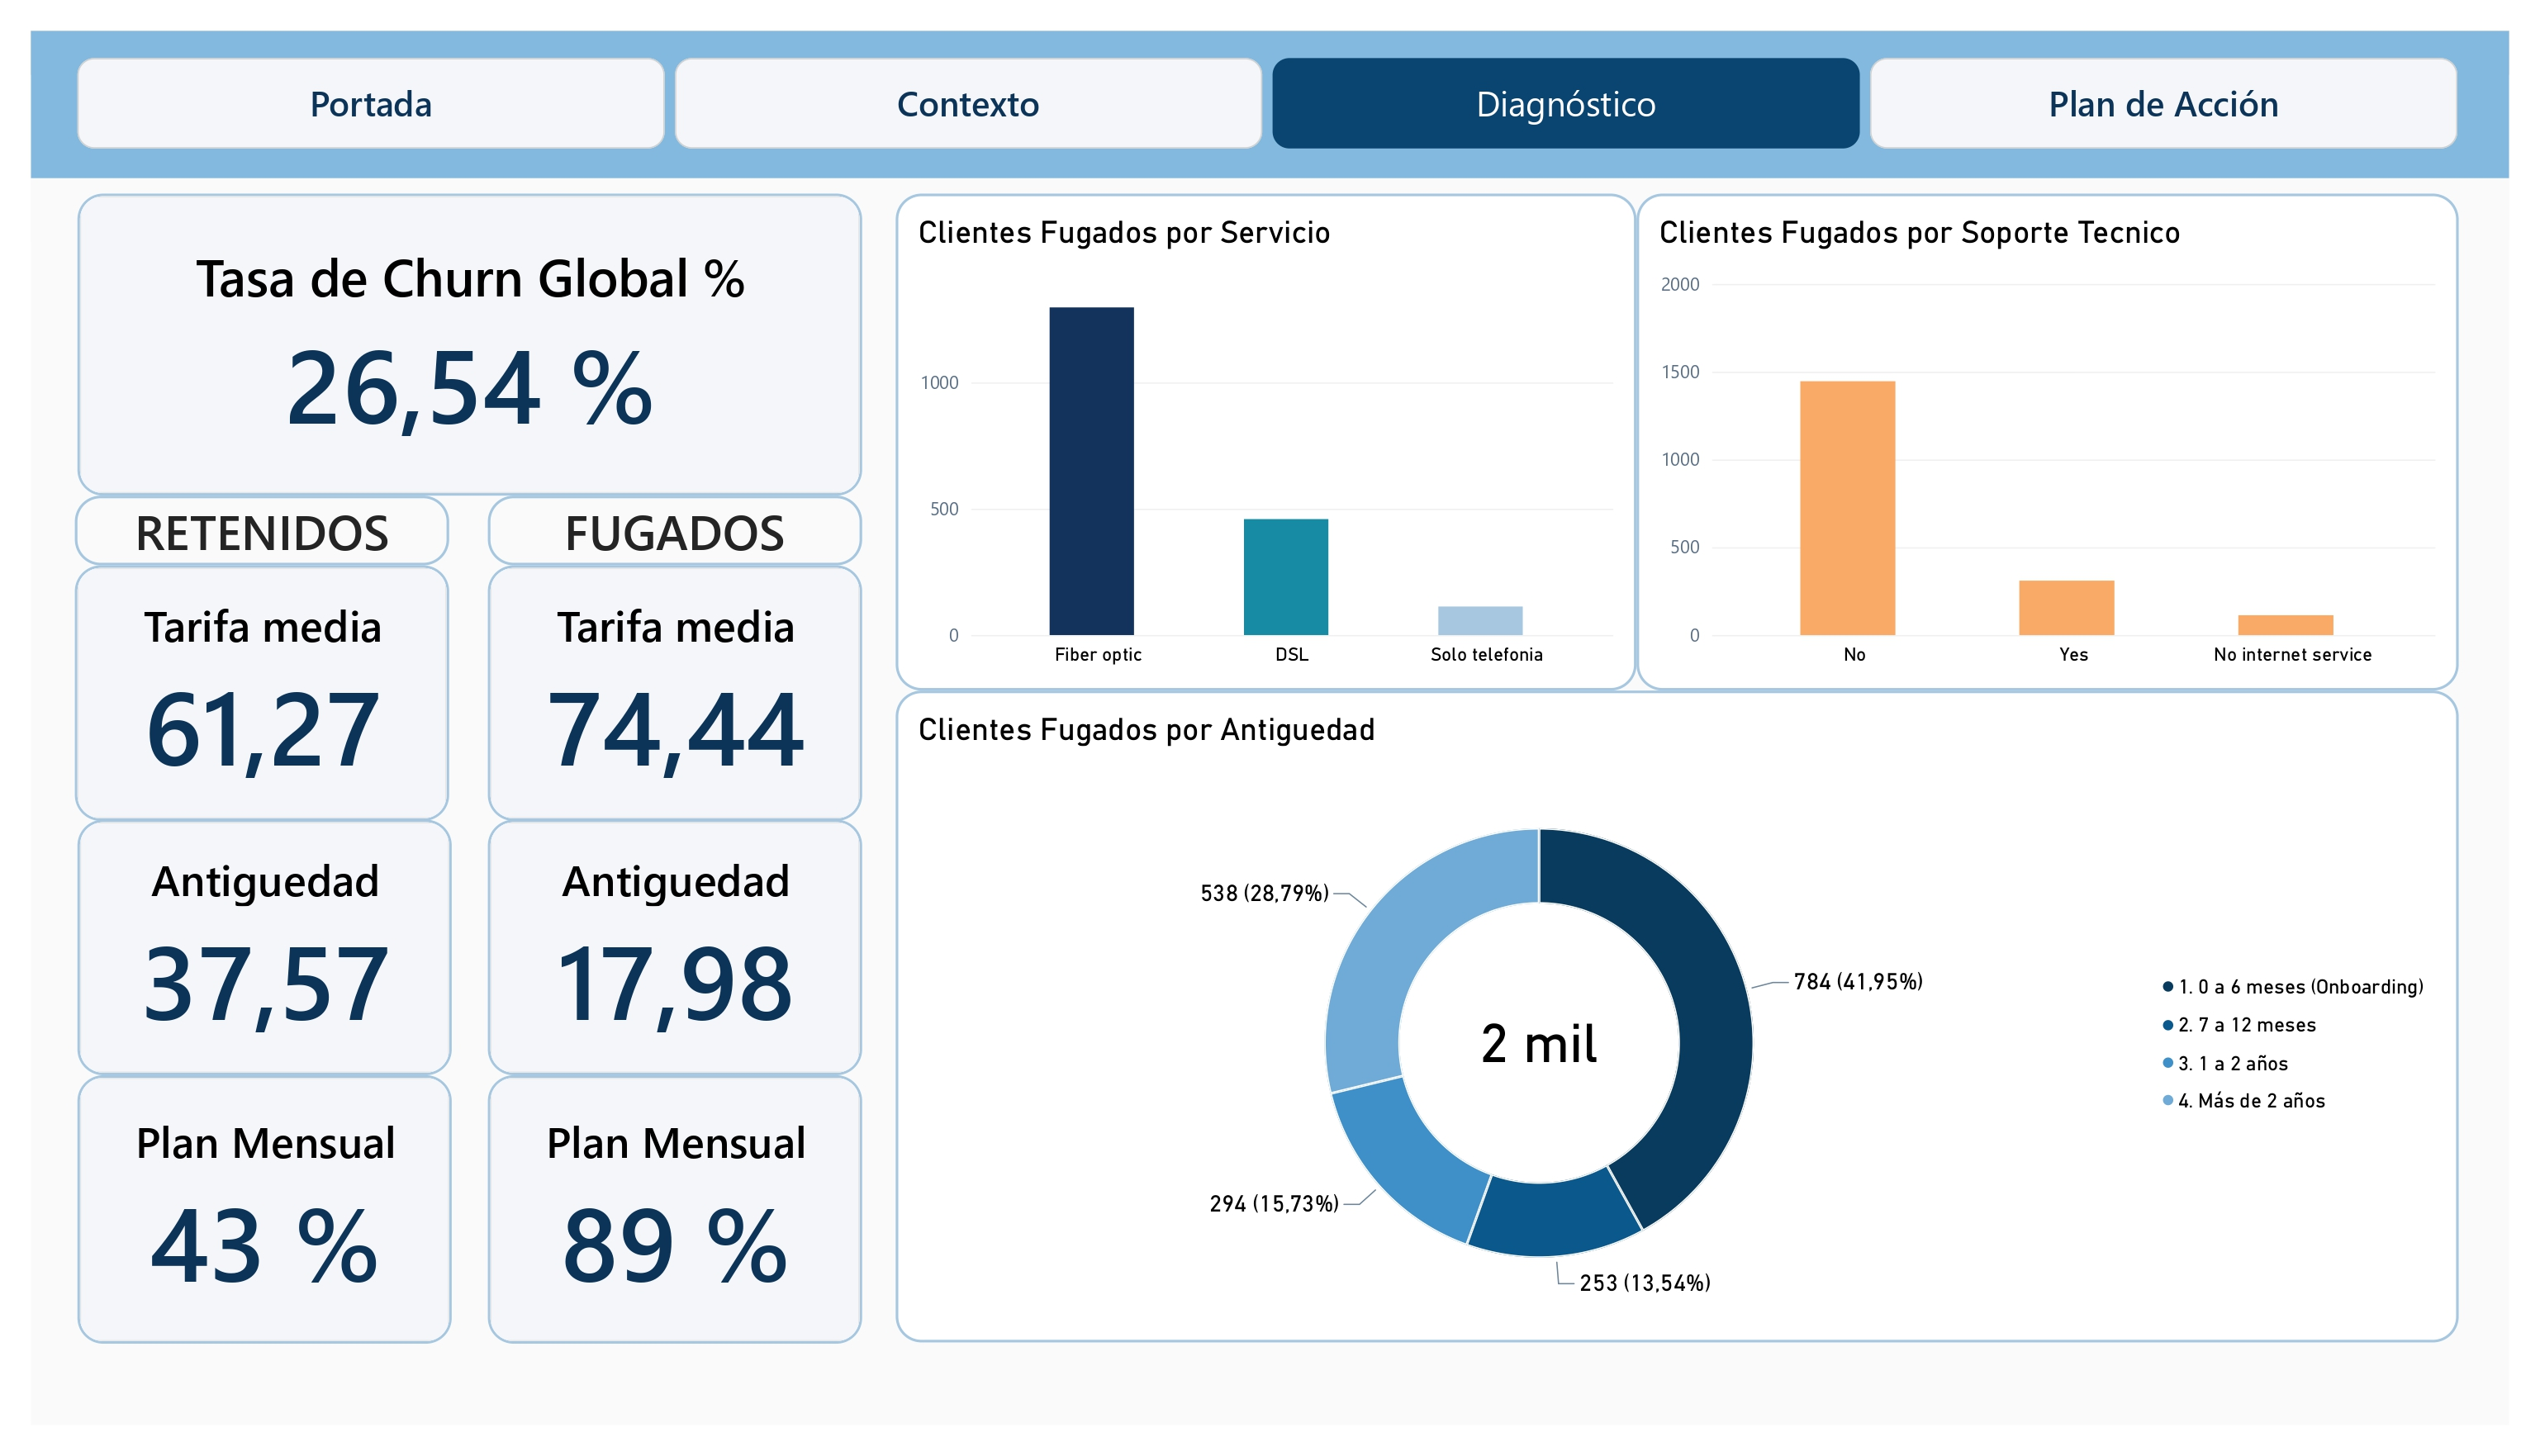

Layout of this report page (visuals, bound fields, positions):
{"tool":"powerbi","page":{"name":"Diagnóstico","canvas":[1920,1080],"ordinal":2},"visuals":[{"type":"shape","box":[0,0,1920,114],"z":0},{"type":"clusteredColumnChart","title":"Clientes Fugados por Servicio","fields":{"Category":["vw_Dim_Servicios.InternetService"],"Y":["_Medidas.Clientes Fugados"]},"box":[670,125.7,574.3,385.7],"z":1000},{"type":"clusteredColumnChart","title":"Clientes Fugados por Soporte Tecnico","fields":{"Category":["vw_Dim_Servicios.TechSupport"],"Y":["_Medidas.Clientes Fugados"]},"box":[1244.3,125.7,637.1,385.7],"z":2000},{"type":"donutChart","title":"Clientes Fugados por Antiguedad","fields":{"Category":["vw_Fact_Transacciones.Ventana_Antiguedad","vw_Dim_Contrato.Contract"],"Y":["_Medidas.Clientes Fugados"]},"box":[670,511.4,1211.4,504.3],"z":3000},{"type":"cardVisual","fields":{"Data":["_Medidas.Tasa Churn %"]},"box":[36,126,608,234],"z":4000},{"type":"textbox","box":[34,360,290,54],"z":5000},{"type":"textbox","box":[354,360,290,54],"z":6000},{"type":"cardVisual","fields":{"Data":["_Medidas.Cargo Medio Retenidos"]},"box":[34.3,414.3,290,197.5],"z":7000},{"type":"cardVisual","fields":{"Data":["_Medidas.Antiguedad Media Retenidos"]},"box":[35.7,611.4,290,197.5],"z":8000},{"type":"cardVisual","fields":{"Data":["_Medidas.Pct Mes a Mes Retenidos"]},"box":[35.7,808.6,290,208.6],"z":9000},{"type":"cardVisual","fields":{"Data":["_Medidas.Antiguedad Media Fugados"]},"box":[354.3,611.4,290,197.5],"z":10000},{"type":"cardVisual","fields":{"Data":["_Medidas.Cargo Medio Fugados"]},"box":[354.2,414.2,290,197.5],"z":11000},{"type":"cardVisual","fields":{"Data":["_Medidas.Pct Mes a Mes Fugados"]},"box":[354.3,808.6,290,208.6],"z":12000},{"type":"pageNavigator","box":[35.7,21.4,1847.5,70],"z":13000}]}

Visuals, with their boxes on the page's 1920x1080 design canvas (x1, y1, x2, y2). These are canvas units, not pixel positions in the 2540x1456 screenshot, which may show the page scaled, cropped or inside an application window:
shape: [x1=0, y1=0, x2=1920, y2=114]
"Clientes Fugados por Servicio" clusteredColumnChart: [x1=670, y1=126, x2=1244, y2=511]
"Clientes Fugados por Soporte Tecnico" clusteredColumnChart: [x1=1244, y1=126, x2=1881, y2=511]
"Clientes Fugados por Antiguedad" donutChart: [x1=670, y1=511, x2=1881, y2=1016]
cardVisual - _Medidas.Tasa Churn %: [x1=36, y1=126, x2=644, y2=360]
textbox: [x1=34, y1=360, x2=324, y2=414]
textbox: [x1=354, y1=360, x2=644, y2=414]
cardVisual - _Medidas.Cargo Medio Retenidos: [x1=34, y1=414, x2=324, y2=612]
cardVisual - _Medidas.Antiguedad Media Retenidos: [x1=36, y1=611, x2=326, y2=809]
cardVisual - _Medidas.Pct Mes a Mes Retenidos: [x1=36, y1=809, x2=326, y2=1017]
cardVisual - _Medidas.Antiguedad Media Fugados: [x1=354, y1=611, x2=644, y2=809]
cardVisual - _Medidas.Cargo Medio Fugados: [x1=354, y1=414, x2=644, y2=612]
cardVisual - _Medidas.Pct Mes a Mes Fugados: [x1=354, y1=809, x2=644, y2=1017]
pageNavigator: [x1=36, y1=21, x2=1883, y2=91]
